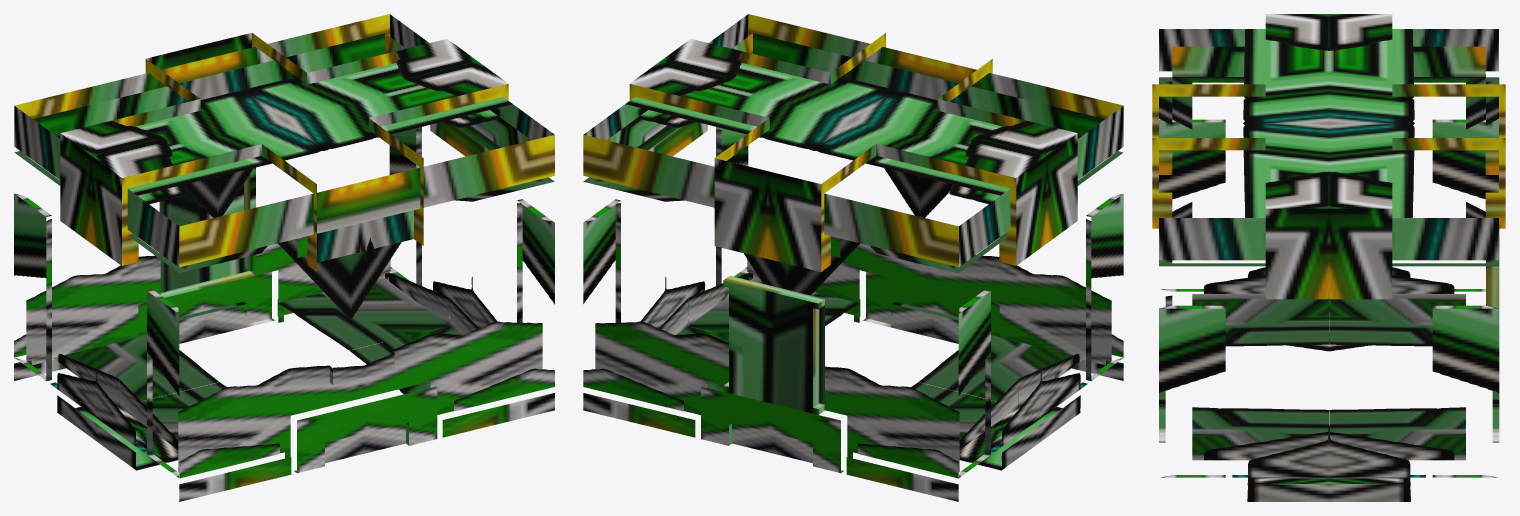
File: halloween_chest_1.fbx
The picture shows the model from 3 angles, left to right: view 1: azimuth 30°, elevation 25°; view 2: azimuth 150°, elevation 25°; view 3: azimuth 270°, elevation 25°; orthographic projection. The views are drawn at different scales.
Parts seen in each view (by area): view 1: halloween_chest_1, lid_event_chest_1_mesh; view 2: halloween_chest_1, lid_event_chest_1_mesh; view 3: lid_event_chest_1_mesh, halloween_chest_1.
Part boxes in pixels (<box>): halloween_chest_1: <box>14,125,554,501</box>; lid_event_chest_1_mesh: <box>14,14,554,271</box>; halloween_chest_1: <box>583,125,1123,501</box>; lid_event_chest_1_mesh: <box>583,14,1123,271</box>; lid_event_chest_1_mesh: <box>1152,14,1505,299</box>; halloween_chest_1: <box>1159,74,1499,501</box>.
Bounding box in the file's own units: 3.63 × 2.58 × 2.79.
